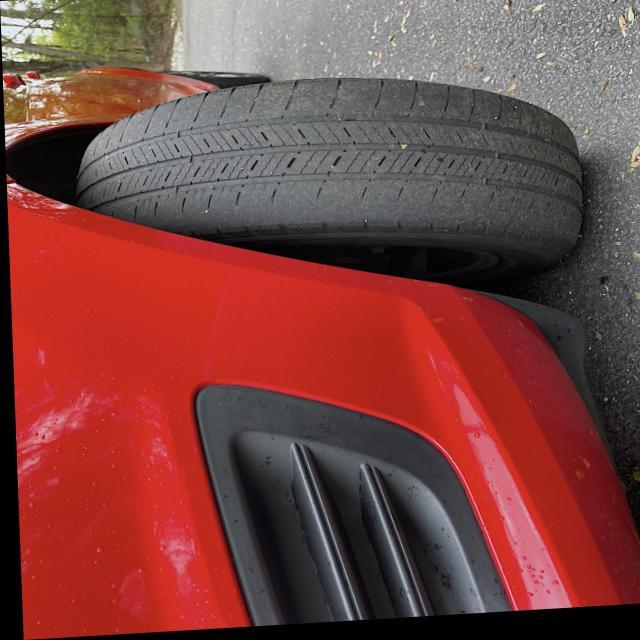Flat spots: (90, 76, 586, 222)
